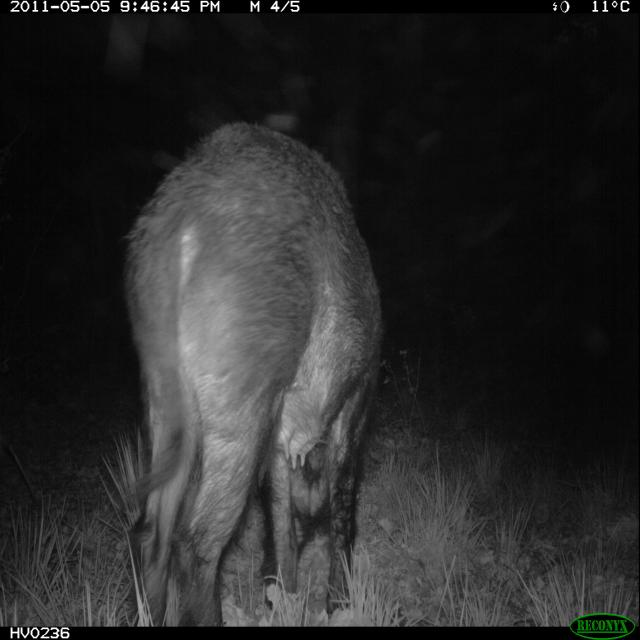boar: (48, 58, 416, 612)
